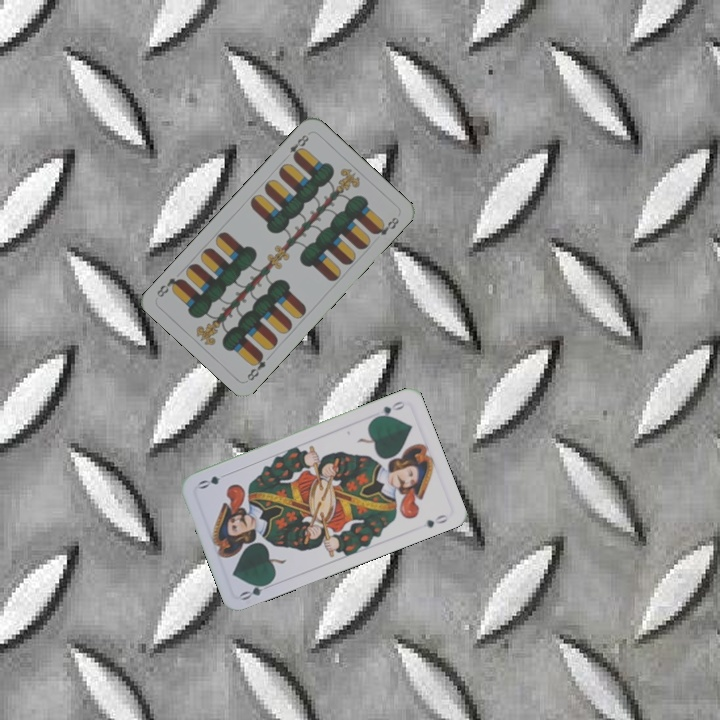E8: (243, 349, 268, 383), (285, 130, 311, 162)
GO: (236, 577, 276, 603), (370, 397, 408, 422)
